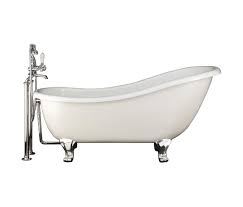bathub: (22, 57, 227, 169)
